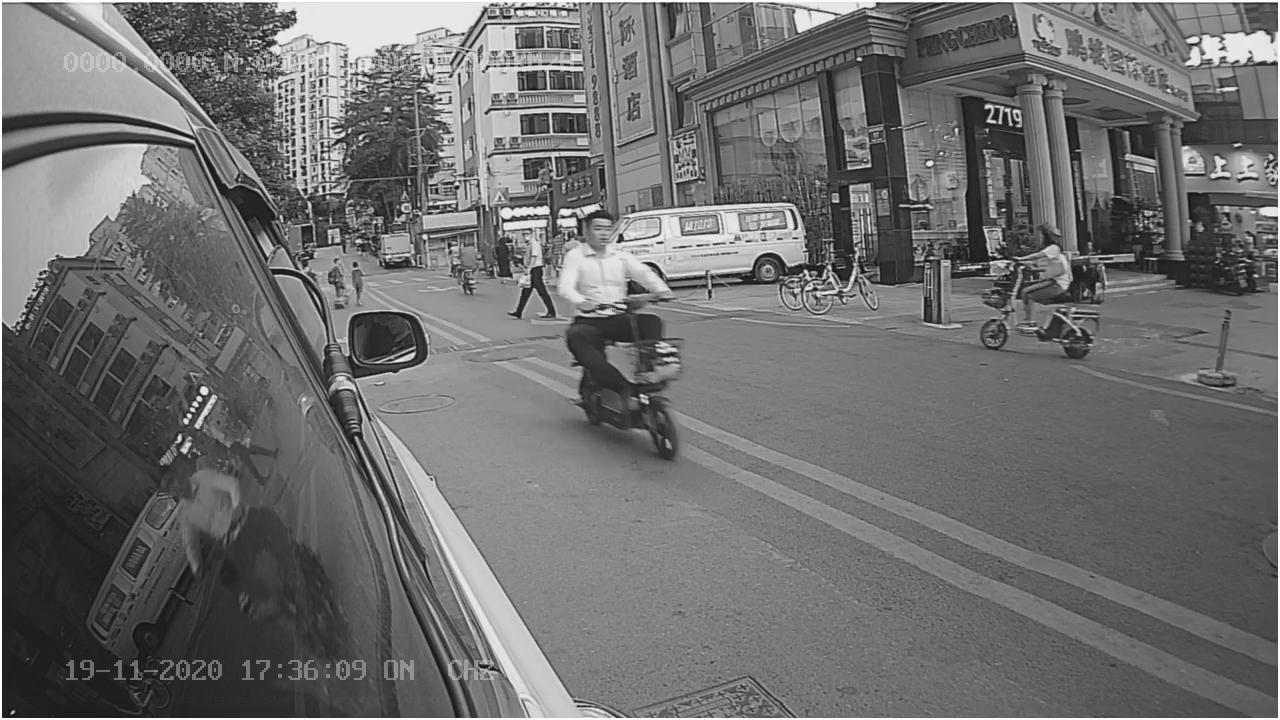person: (559, 217, 649, 296)
